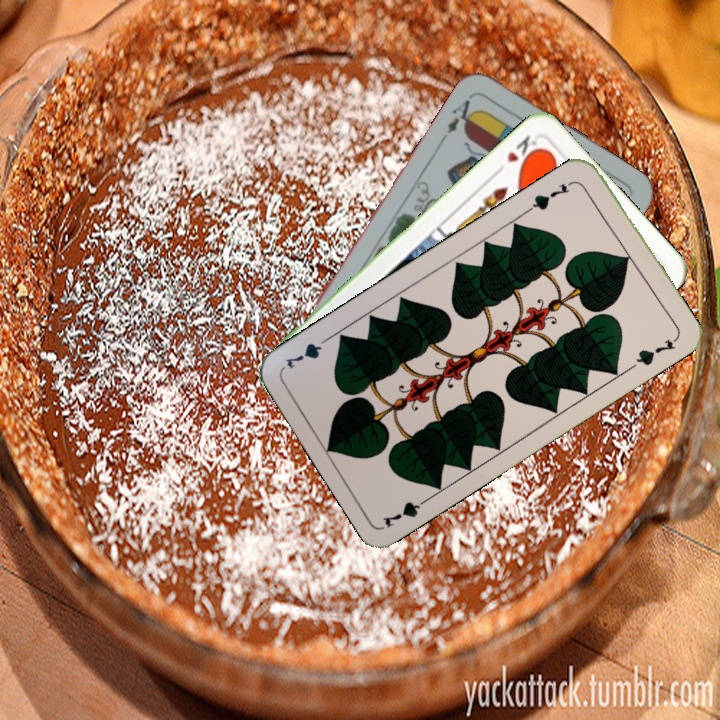EA: (442, 90, 481, 137)
G7: (378, 491, 435, 530), (524, 176, 578, 214)
HK: (502, 131, 544, 170)
